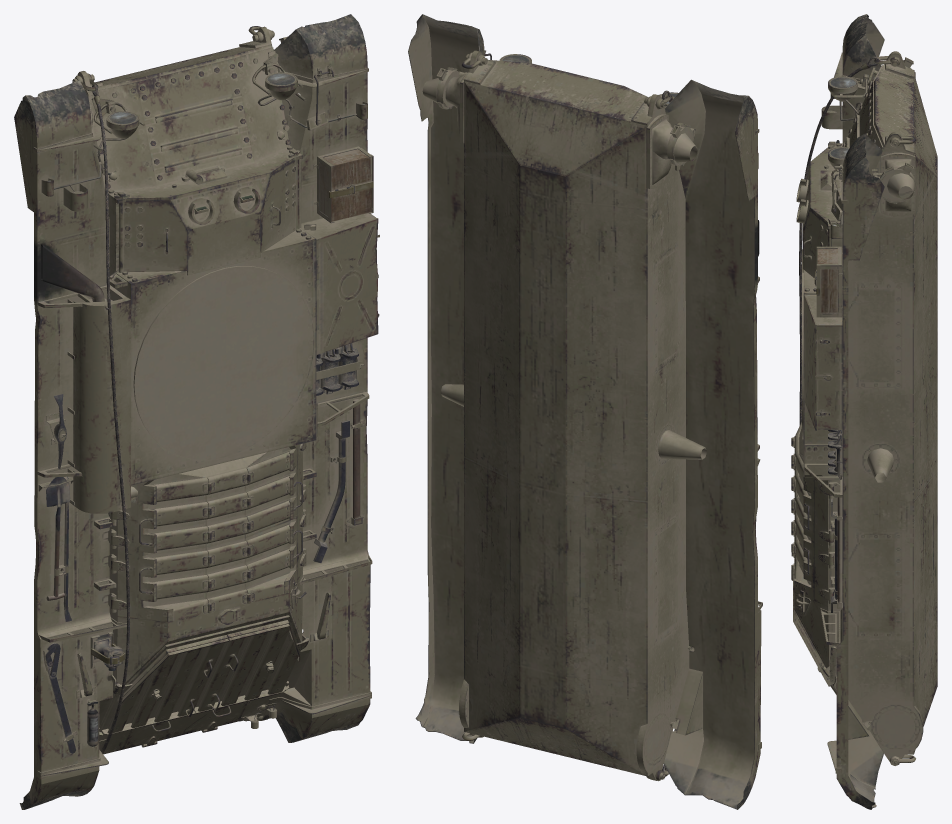
The model's file is Hull.glb.
The picture shows the model from 3 angles, left to right: view 1: azimuth 30°, elevation 25°; view 2: azimuth 150°, elevation 25°; view 3: azimuth 270°, elevation 25°; orthographic projection. The views are drawn at different scales.
Parts seen in each view (by area): view 1: set_0_group_0; view 2: set_0_group_0; view 3: set_0_group_0.
Part boxes in pixels (<box>): set_0_group_0: <box>14,14,379,809</box>; set_0_group_0: <box>408,14,762,809</box>; set_0_group_0: <box>791,14,937,809</box>.
Size of the model in its own units: 2.64 by 5.47 by 1.1.
Materials: 1 (1 with a texture image).
